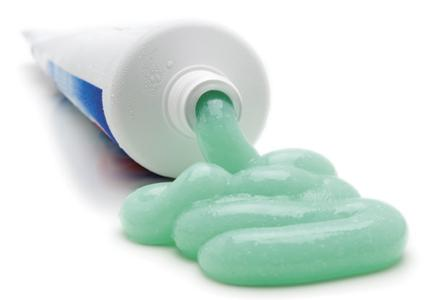toothpaste: (13, 0, 300, 184)
